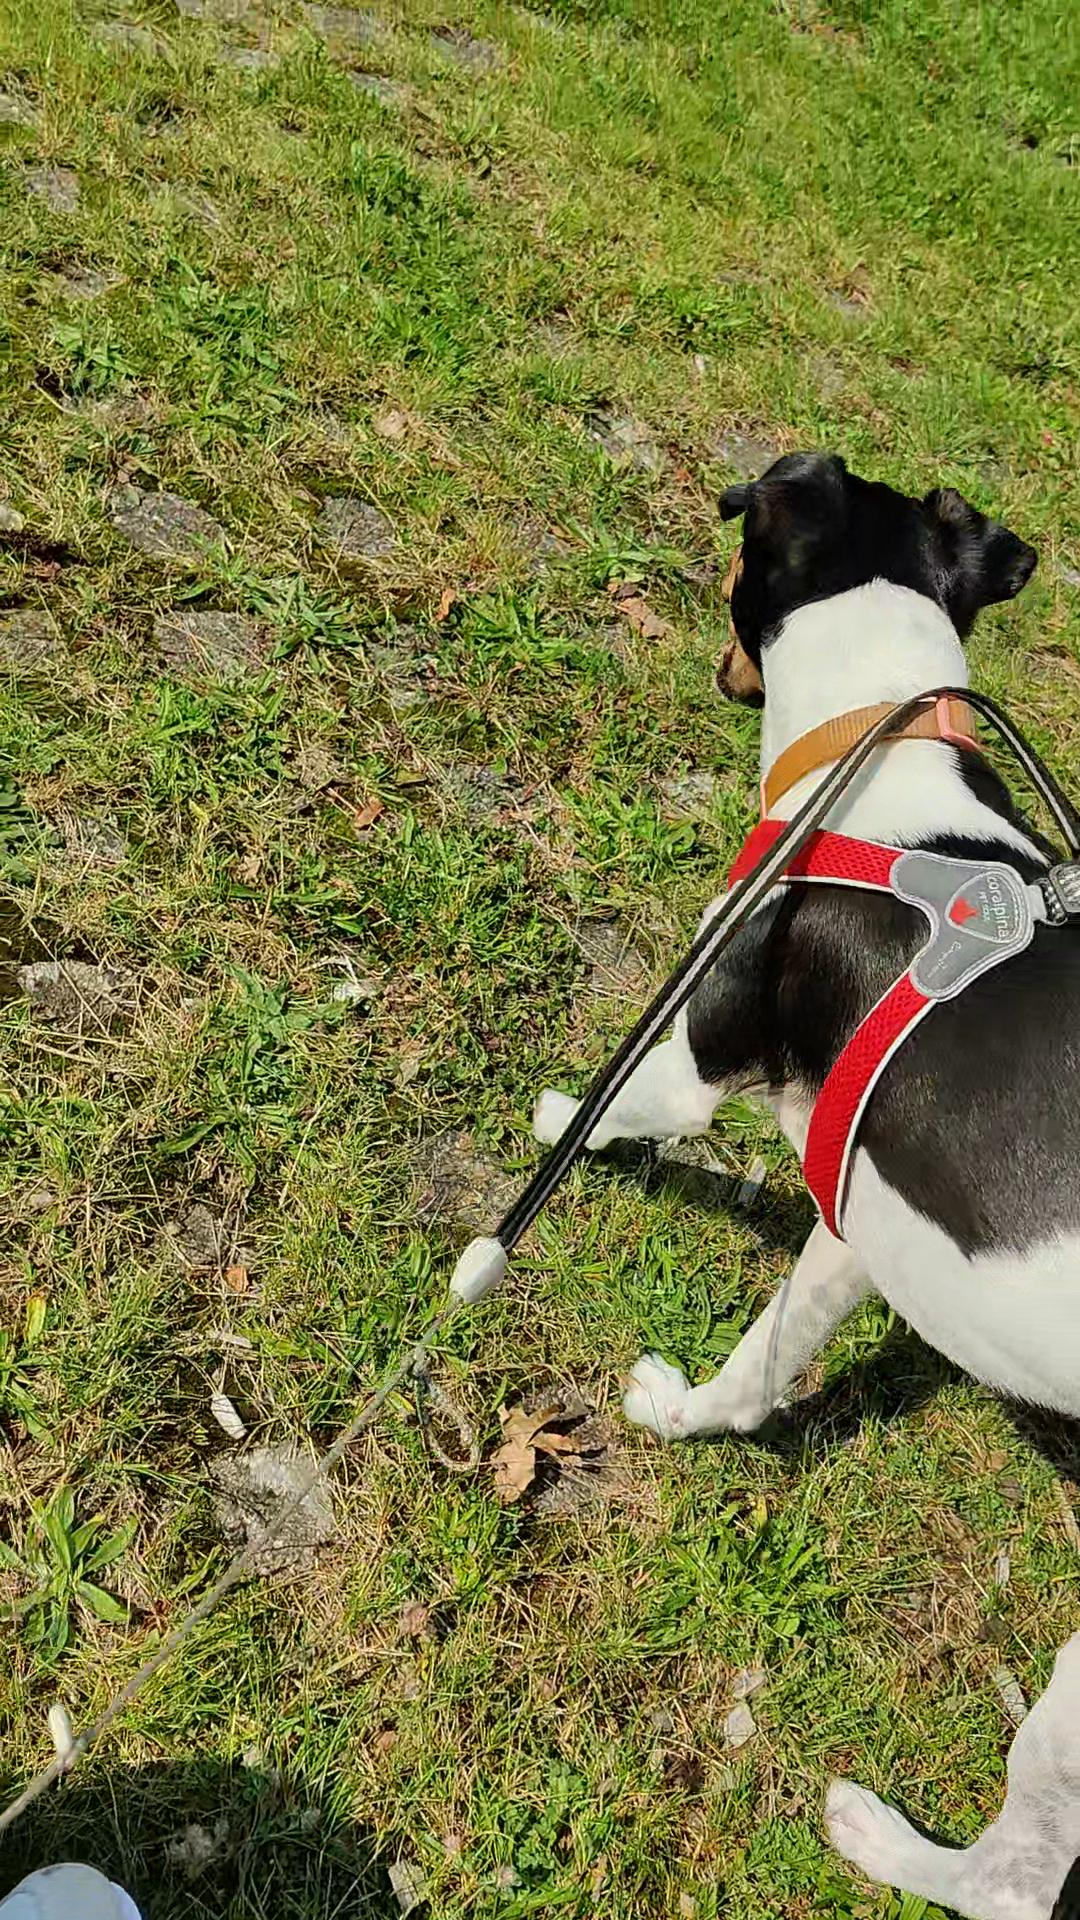Dog: (504, 436, 1079, 1919)
